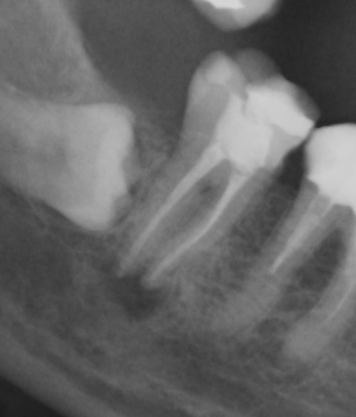fracture: (320, 277, 356, 327)
